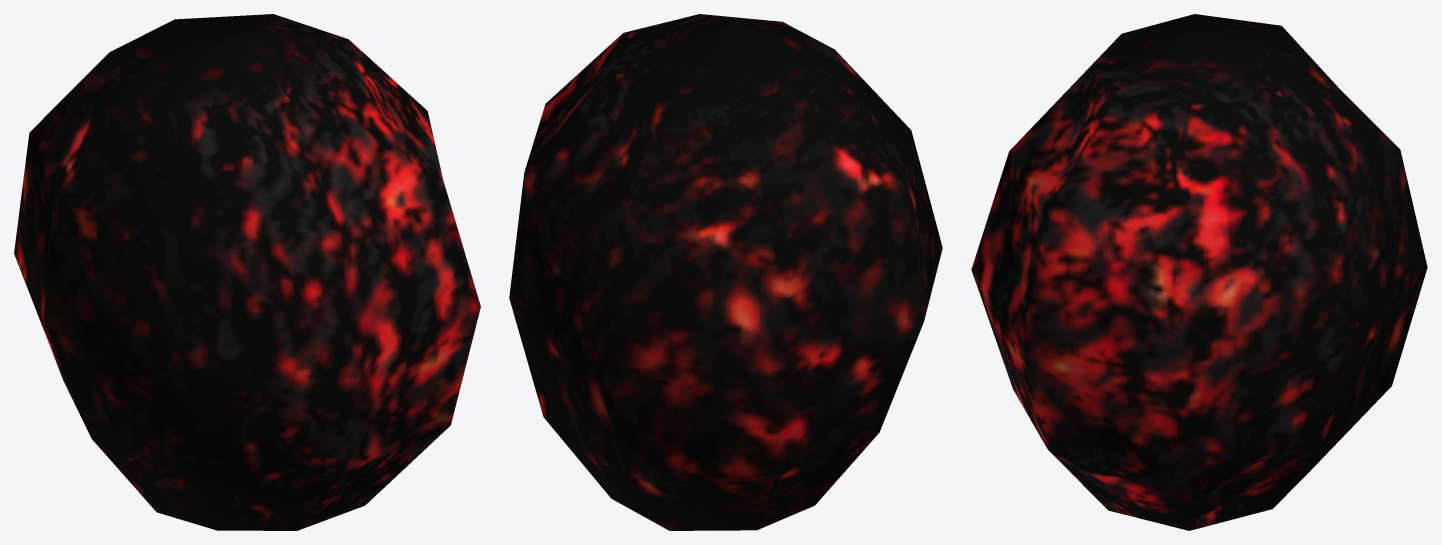
Rendered from bgrnd54.obj.
The picture shows the model from 3 angles, left to right: view 1: azimuth 30°, elevation 25°; view 2: azimuth 150°, elevation 25°; view 3: azimuth 270°, elevation 25°; orthographic projection. The views are drawn at different scales.
Parts seen in each view (by area): view 1: frm-nurbs5; view 2: frm-nurbs5; view 3: frm-nurbs5.
Part boxes in pixels (x1=…): frm-nurbs5: x1=14, y1=14, x2=480, y2=530; frm-nurbs5: x1=509, y1=14, x2=942, y2=530; frm-nurbs5: x1=971, y1=14, x2=1427, y2=530.
Bounding box in the file's own units: 9.1 × 10.7 × 9.37.
Materials: 1 (1 with a texture image).
